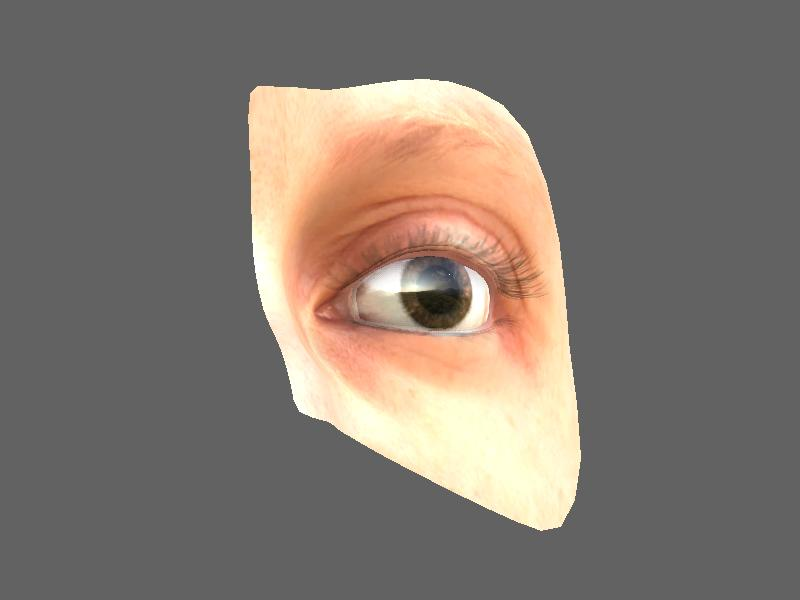iris: (393, 256, 482, 331)
